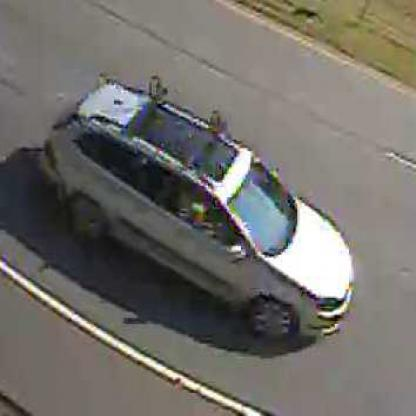car: (48, 81, 356, 350)
